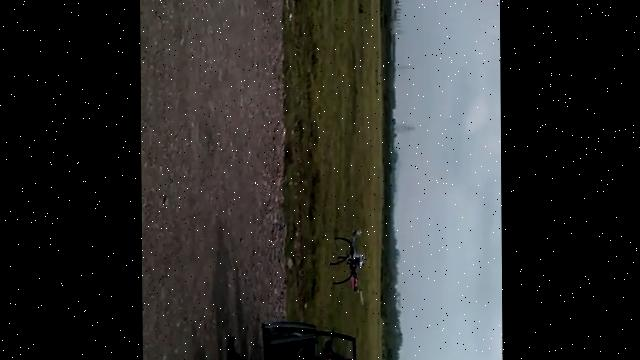drone: (329, 221, 370, 305)
